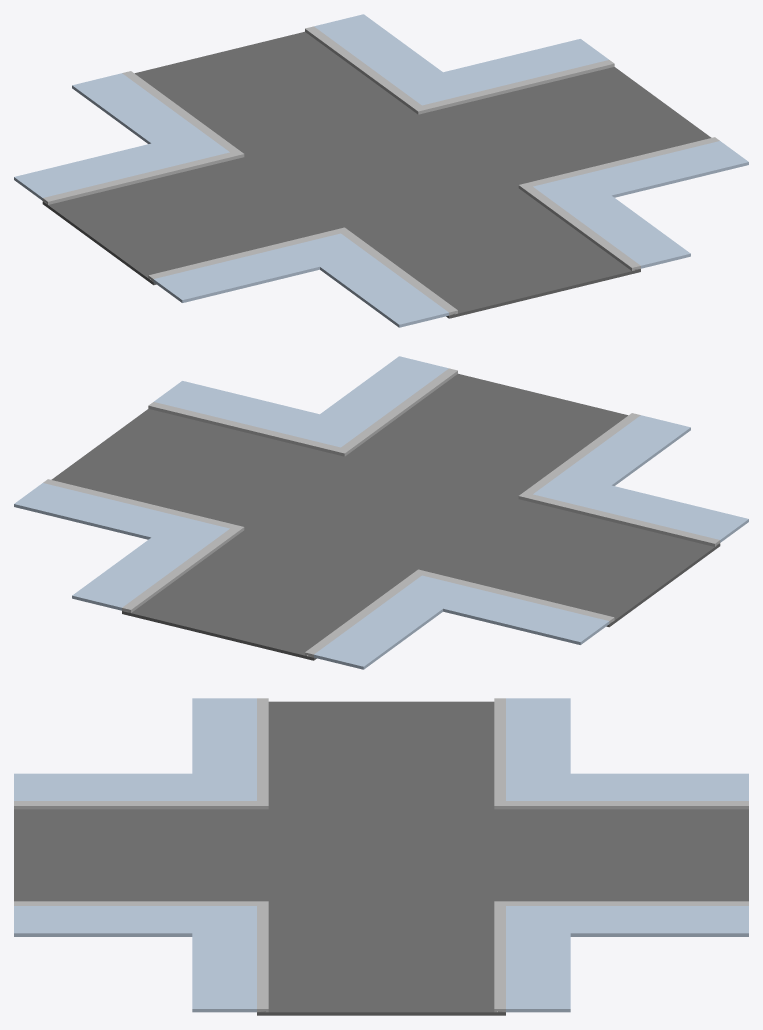
File: road_four.glb
3 renders of one model, top to bottom at view 1: azimuth 30°, elevation 25°; view 2: azimuth 150°, elevation 25°; view 3: azimuth 270°, elevation 25°, orthographic. The views are drawn at different scales.
Visible parts, largest first — view 1: 4-way road_Material.001_0, 4-way road_Material.003_0, 4-way road_Material.002_0; view 2: 4-way road_Material.001_0, 4-way road_Material.003_0, 4-way road_Material.002_0; view 3: 4-way road_Material.001_0, 4-way road_Material.003_0, 4-way road_Material.002_0.
Part boxes in pixels (left/top/right/bottom): 4-way road_Material.001_0: left=42, top=31, right=711, bottom=318; 4-way road_Material.003_0: left=14, top=14, right=748, bottom=327; 4-way road_Material.002_0: left=42, top=26, right=719, bottom=315; 4-way road_Material.001_0: left=51, top=373, right=720, bottom=660; 4-way road_Material.003_0: left=14, top=356, right=748, bottom=669; 4-way road_Material.002_0: left=43, top=368, right=720, bottom=657; 4-way road_Material.001_0: left=14, top=701, right=748, bottom=1015; 4-way road_Material.003_0: left=14, top=698, right=748, bottom=1012; 4-way road_Material.002_0: left=14, top=698, right=748, bottom=1012.
Bounding box in the file's own units: 197 × 2.06 × 197.
